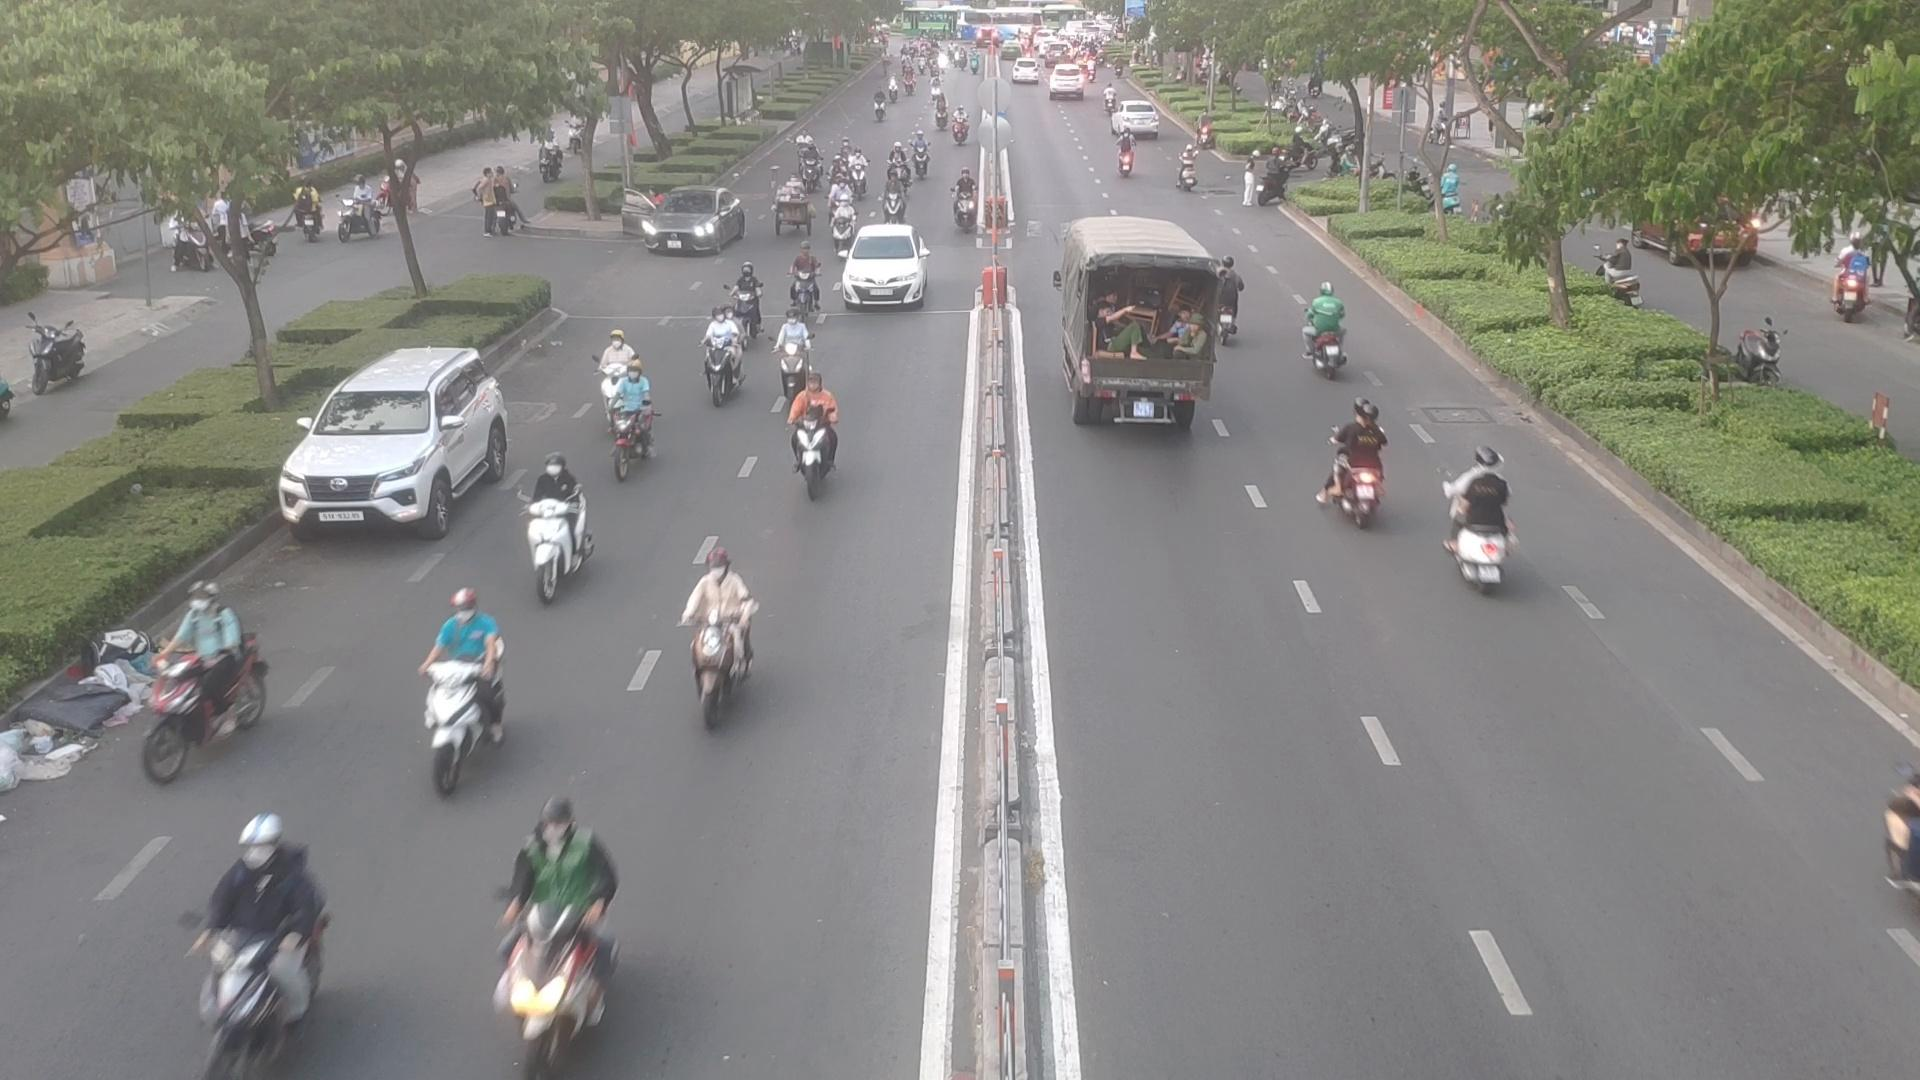car: (276, 356, 518, 541), (829, 231, 932, 313), (628, 194, 754, 258)
motorbike: (189, 866, 327, 1080), (492, 808, 624, 1005), (140, 603, 274, 781), (409, 604, 516, 802), (676, 566, 764, 731), (1444, 459, 1524, 600), (1319, 409, 1402, 541), (514, 472, 597, 601), (787, 385, 849, 495), (1296, 286, 1364, 380), (601, 375, 661, 477), (589, 334, 649, 405), (698, 324, 745, 404), (719, 272, 767, 336), (774, 306, 811, 386), (1215, 256, 1244, 347), (785, 244, 819, 311), (949, 164, 978, 240), (829, 193, 858, 255), (1174, 152, 1204, 193), (884, 177, 906, 225)
